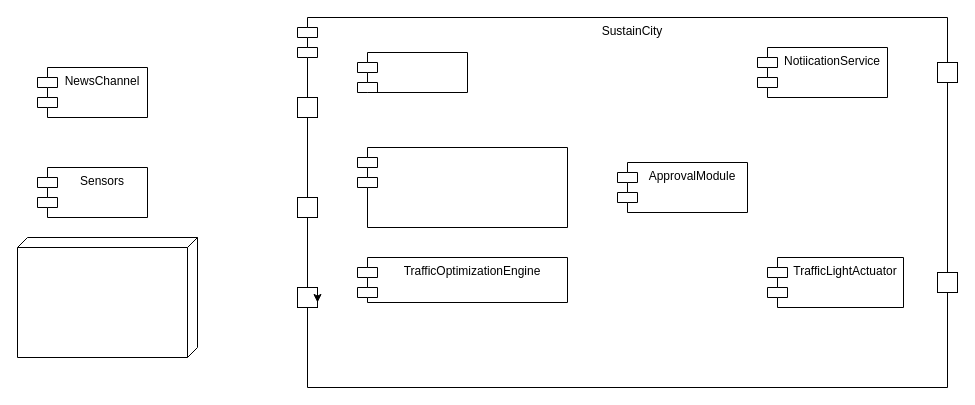
This 975x405 diagram has some shape labels left out. The shapes that lost their labels are listed below. From the top down, each one's centre as x and y in pixels, then its label:
At [412,72]: "EventCollector".
At [462,187]: "TrafficAnalyzer".
At [107,297]: "PTSchedule Microservice".
